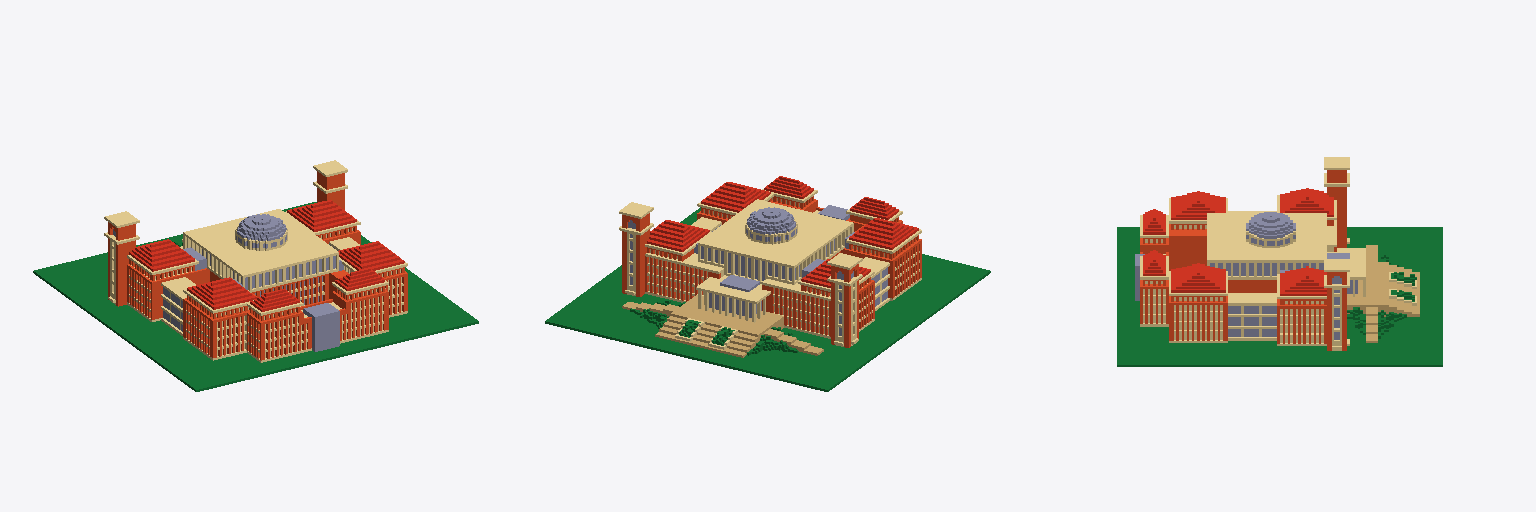
3 renders of one model, left to right at view 1: azimuth 30°, elevation 25°; view 2: azimuth 150°, elevation 25°; view 3: azimuth 270°, elevation 25°, orthographic.
Parts seen in each view (by area): view 1: 图书馆; view 2: 图书馆; view 3: 图书馆.
Boxes of the visible parts, box(x1,y1,x2,y2) form: 图书馆: box(33, 160, 478, 391); 图书馆: box(545, 176, 990, 391); 图书馆: box(1117, 157, 1442, 366).
Bounding box in the file's own units: 126 × 36 × 126.
Materials: 1 (1 with a texture image).